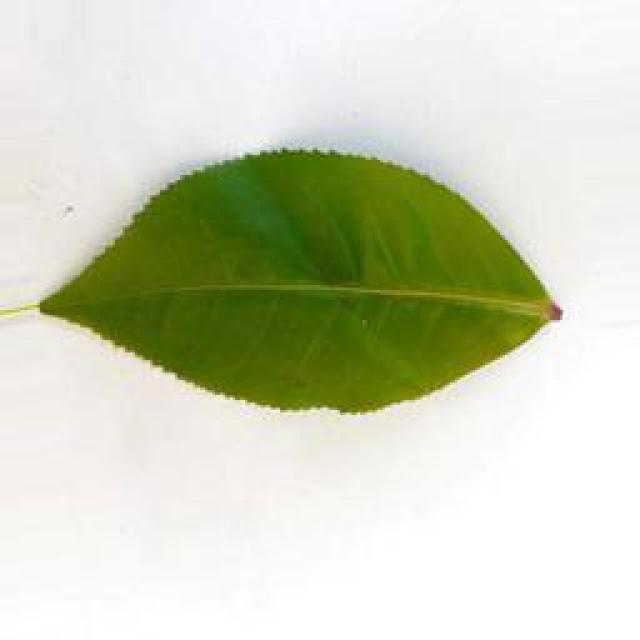Healthy: (35, 147, 558, 424)
